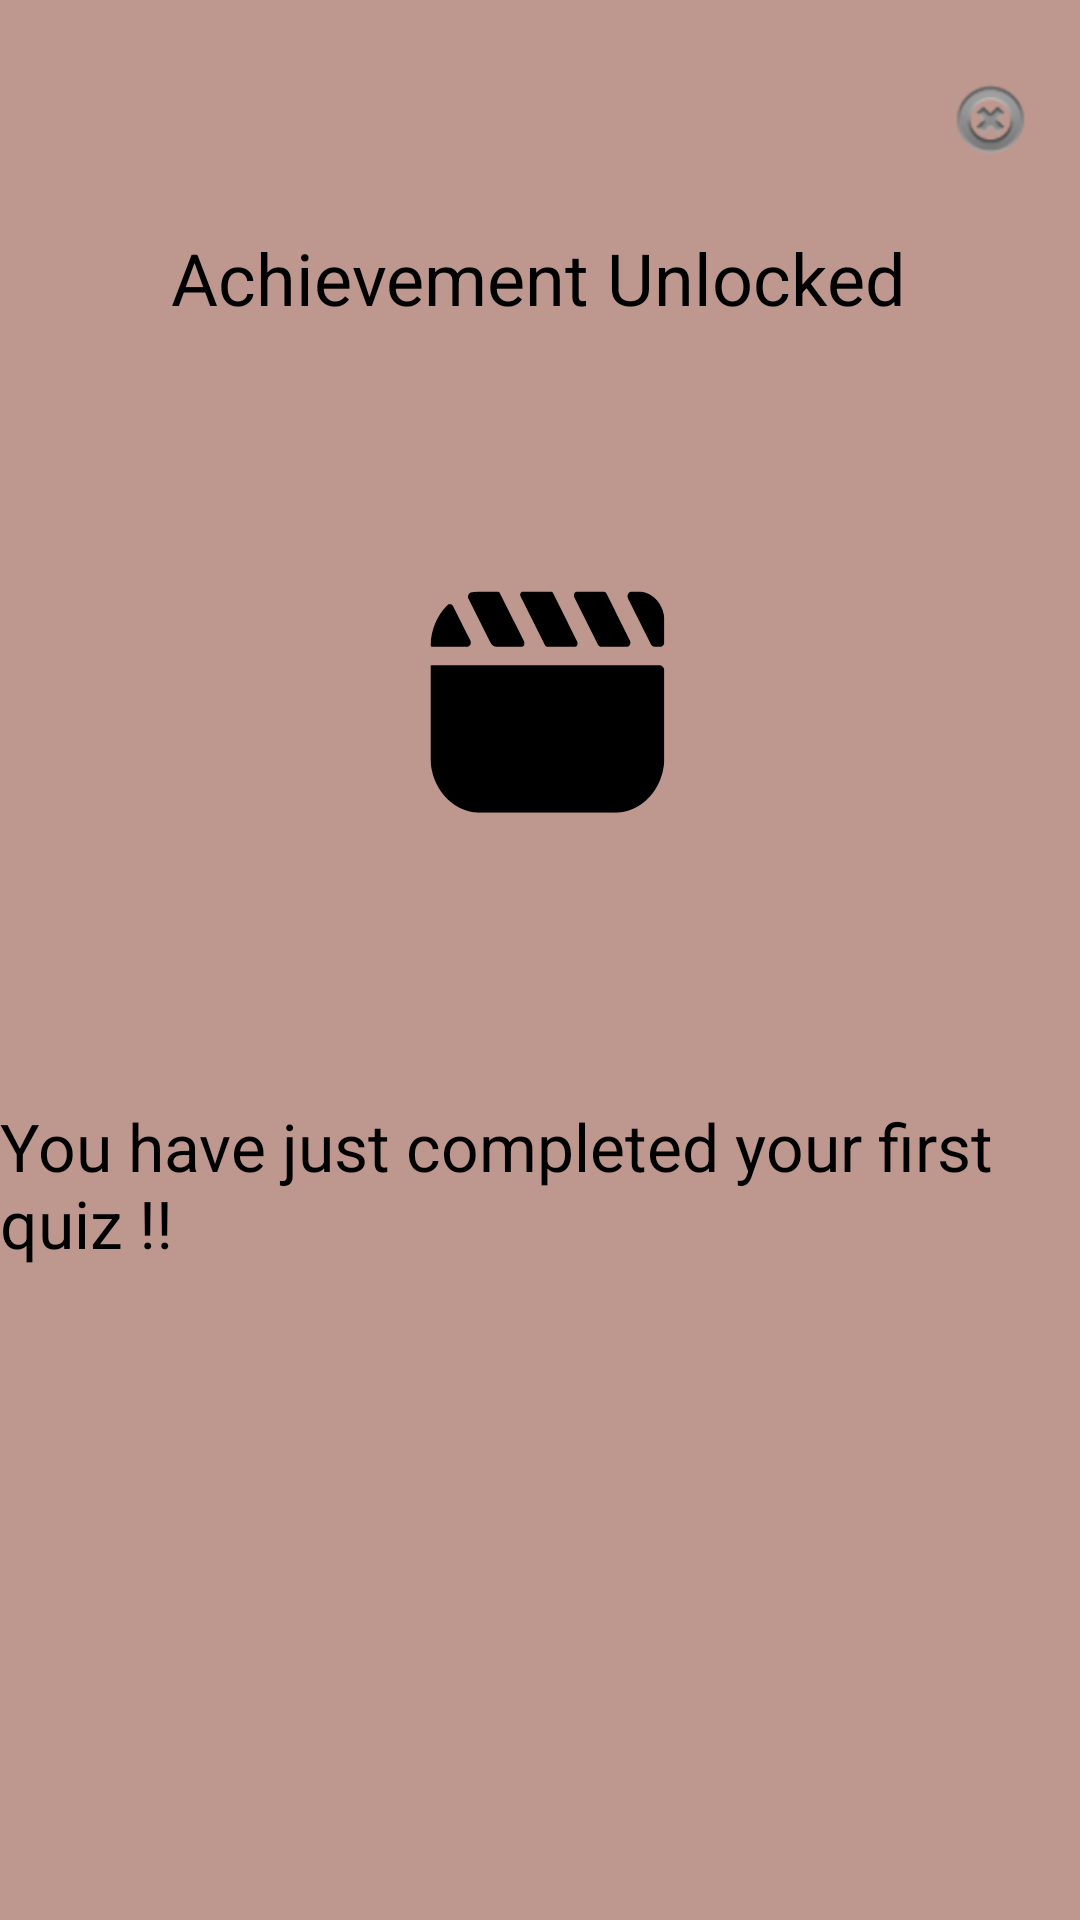

Named icons in this screenshot (1080×1920) and their centers, (x=x, y=y):
notification clear all: (x=990, y=119)
